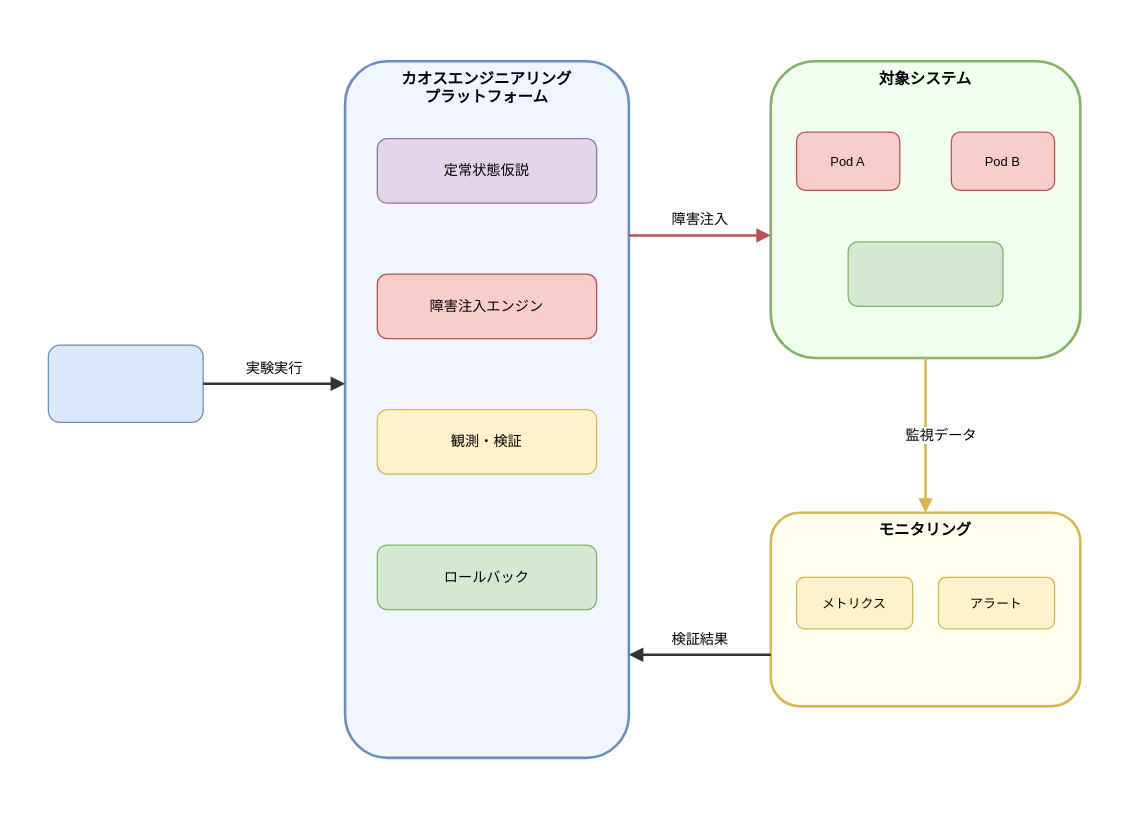
Image size: 1140x818. Some labels were removed from this diagram. The centre of each missing label's shape, as x and y in pixels:
"Service" belongs at point 925,273.
"SRE / エンジニア" belongs at point 125,383.
